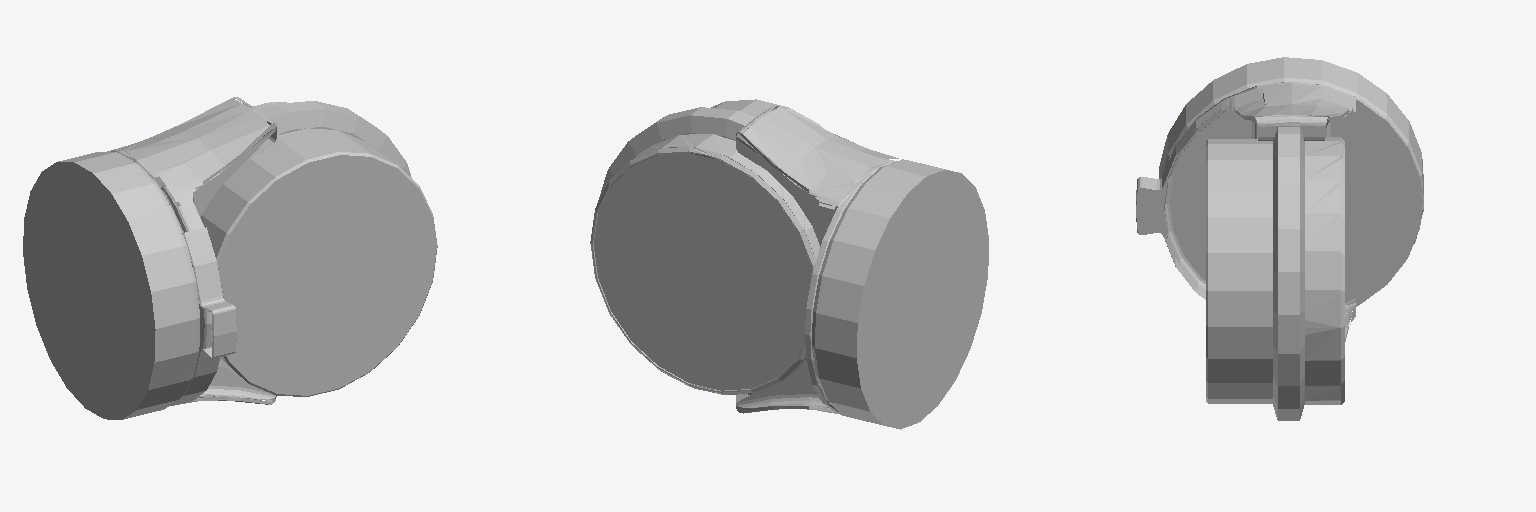
The model's file is FL_hip.obj.
3 renders of one model, left to right at view 1: azimuth 30°, elevation 25°; view 2: azimuth 150°, elevation 25°; view 3: azimuth 270°, elevation 25°, orthographic.
Parts seen in each view (by area): view 1: object23_020-mesh; view 2: object23_020-mesh; view 3: object23_020-mesh.
Boxes of the visible parts, <box> form: object23_020-mesh: <box>23,97,437,419</box>; object23_020-mesh: <box>590,99,988,429</box>; object23_020-mesh: <box>1136,57,1423,420</box>.
Size of the model in its own units: 0.1499 by 0.1262 by 0.1165.